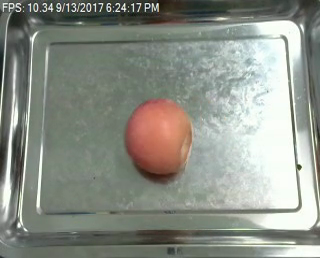Apple: (122, 96, 193, 178)
